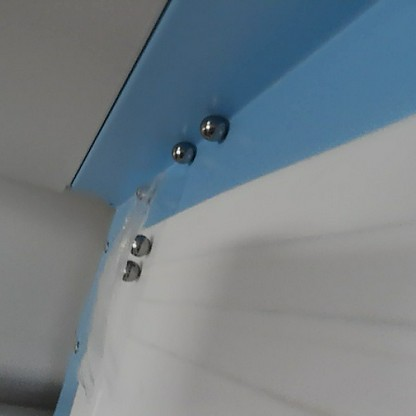ironball: (198, 111, 230, 141), (126, 231, 154, 257), (169, 139, 196, 163), (134, 182, 159, 205), (114, 260, 139, 283)
